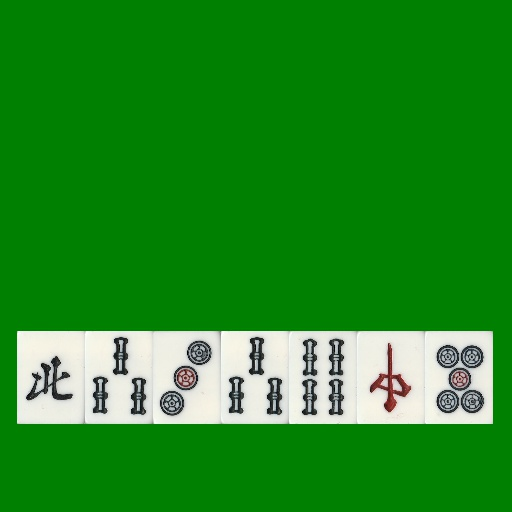3p: (153, 331, 221, 424)
3s: (85, 331, 153, 424), (221, 331, 289, 424)
4s: (289, 331, 357, 424)
5p: (425, 331, 493, 424)
north: (17, 331, 85, 424)
tyun: (357, 331, 425, 424)
